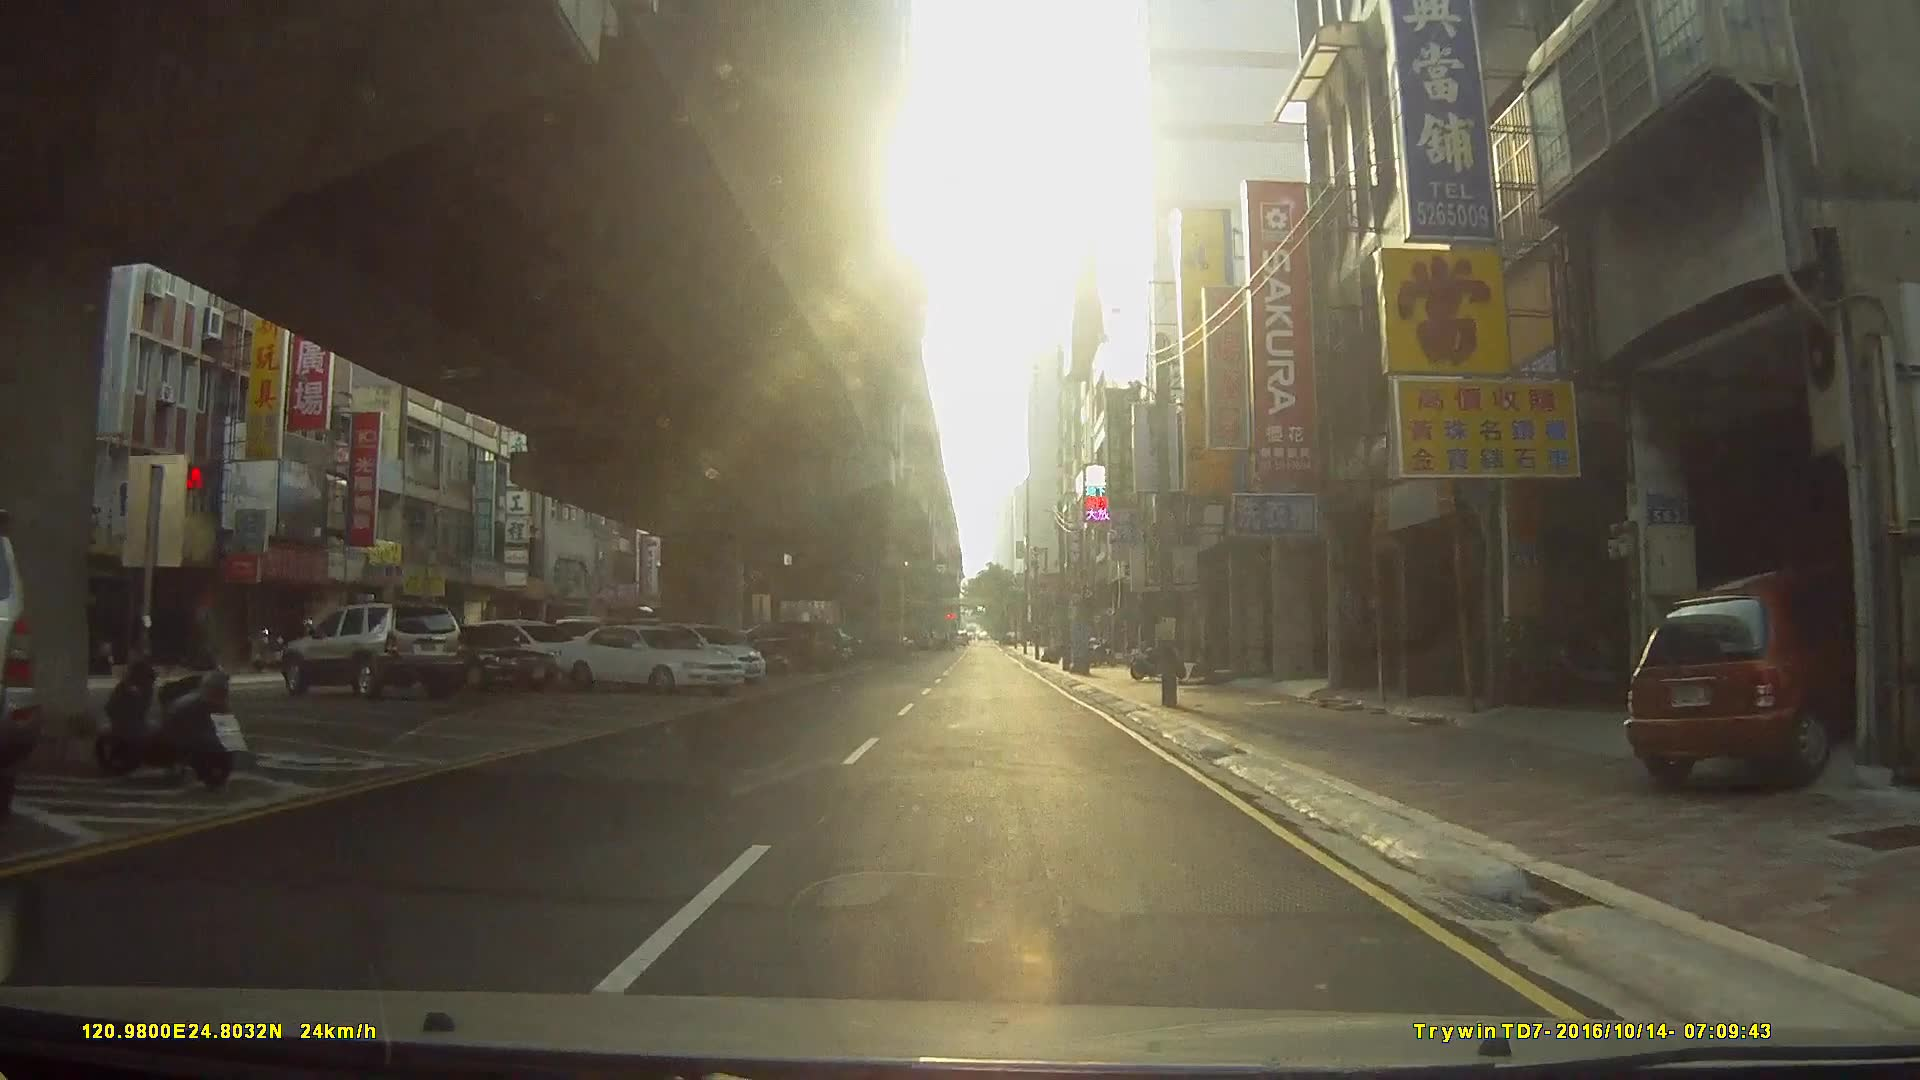vehicle: (1625, 560, 1859, 789), (281, 601, 465, 700), (367, 620, 558, 694), (553, 622, 749, 690)
